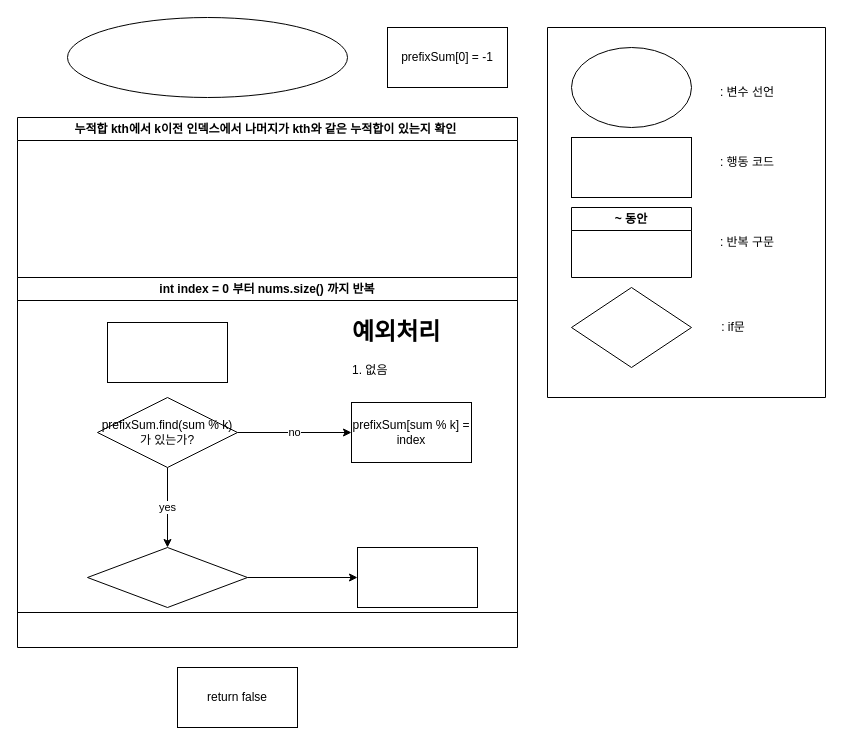
Image size: 843x745. Some labels were removed from this diagram. The centre of each missing label's shape, as x and y in pixels:
"index - prefixSum[sum % k] > 2 인가?" goes at point (167, 577).
"return true" goes at point (417, 577).
"sum +=" goes at point (167, 352).
"unordered_map<int, int> prefixSum; int sum = 0;" goes at point (207, 57).
